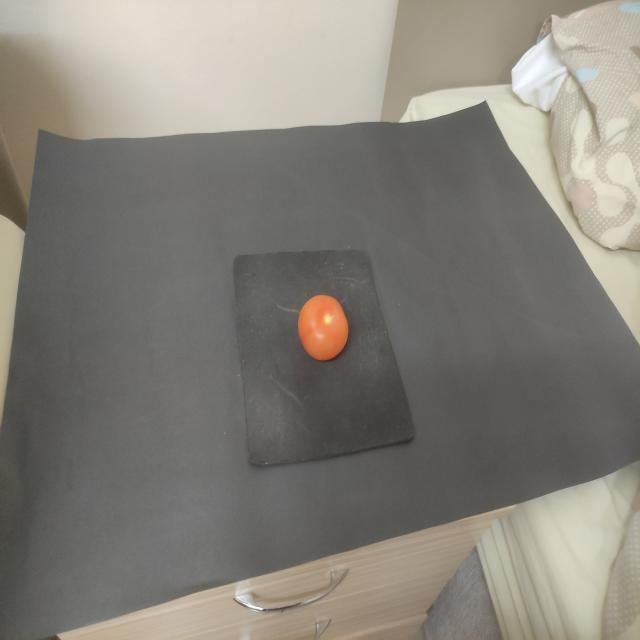sari: (292, 289, 367, 369)
